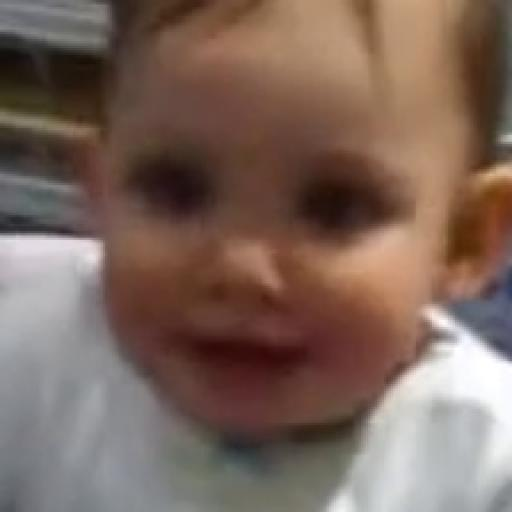Autism: (110, 30, 510, 402)
